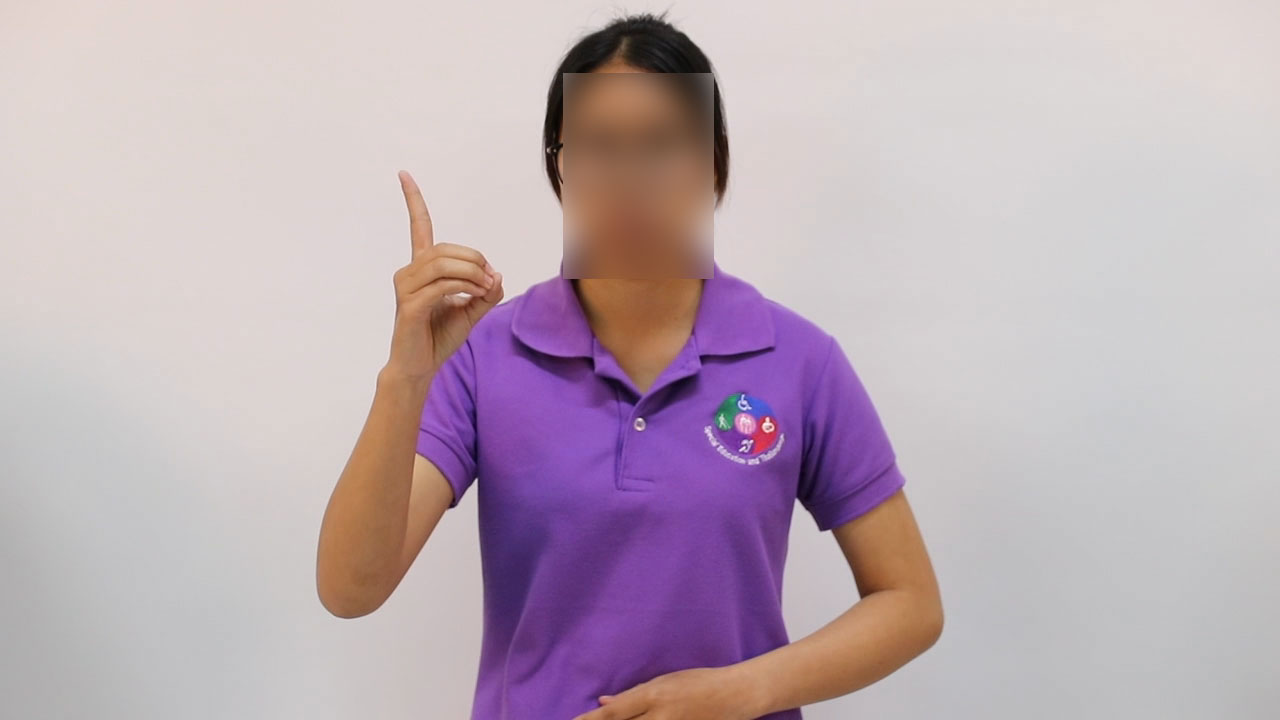dor: (374, 163, 513, 376)
